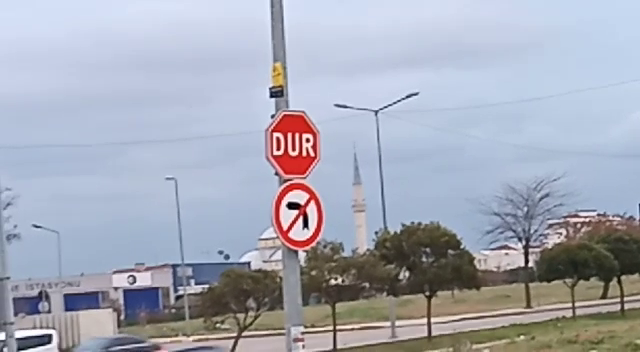no_left: (268, 177, 326, 253)
stop: (262, 106, 324, 183)
